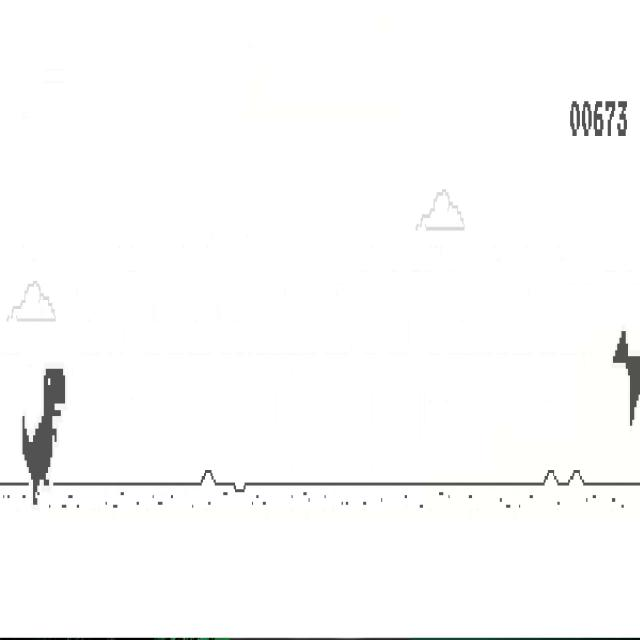dino: (21, 368, 66, 507)
ptero: (612, 329, 640, 425)
